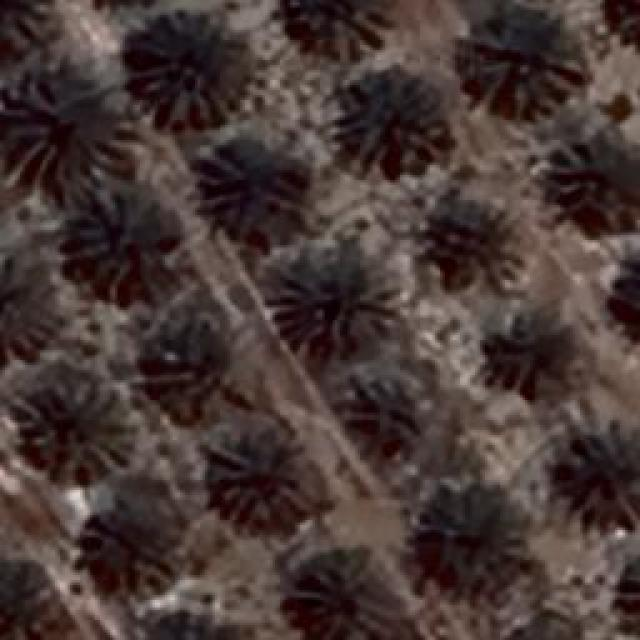PalmTree: (42, 49, 200, 627), (458, 12, 580, 120), (0, 71, 122, 178), (125, 15, 240, 125), (410, 482, 525, 592), (114, 25, 619, 49), (22, 382, 136, 478), (72, 498, 176, 600), (274, 255, 394, 343), (68, 200, 166, 298), (552, 127, 638, 230), (208, 438, 310, 520), (146, 324, 244, 408), (422, 200, 516, 285), (292, 560, 392, 638), (568, 420, 638, 530), (341, 74, 434, 156), (485, 321, 585, 394), (202, 147, 300, 220), (288, 0, 390, 60), (0, 251, 52, 361), (0, 558, 67, 640), (352, 384, 430, 446), (599, 254, 640, 366), (0, 0, 59, 69), (615, 548, 640, 638), (142, 621, 254, 640), (621, 548, 640, 638)
